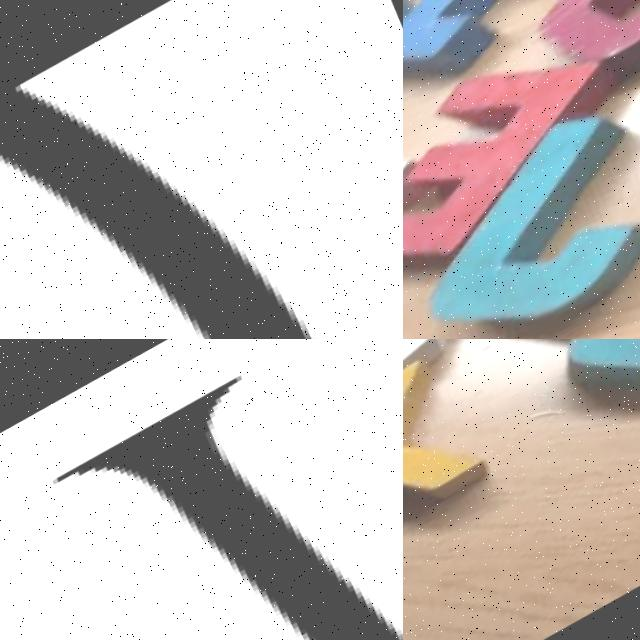7: (0, 0, 377, 339)
E: (403, 0, 640, 336)
J: (18, 339, 403, 640), (403, 81, 640, 339), (503, 339, 640, 481)
X: (403, 341, 524, 598)
Z: (403, 339, 604, 426)
